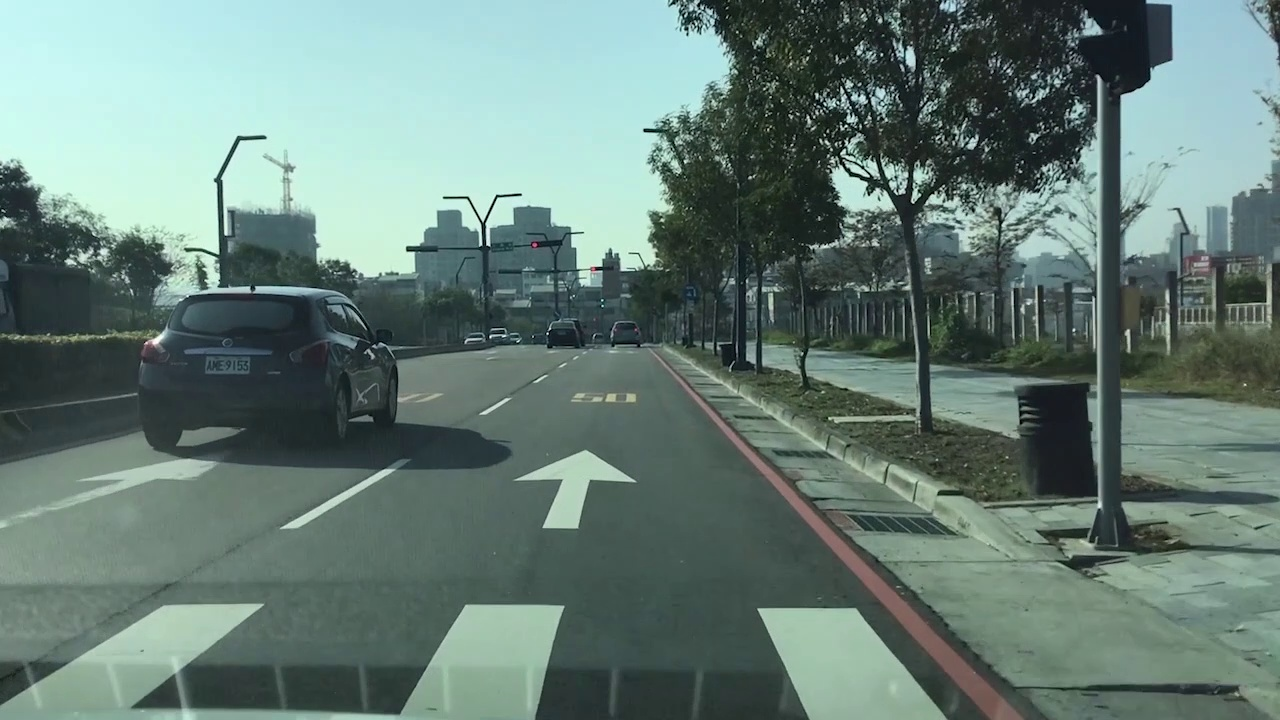Pedestrian_Crossing: (0, 600, 1024, 720)
